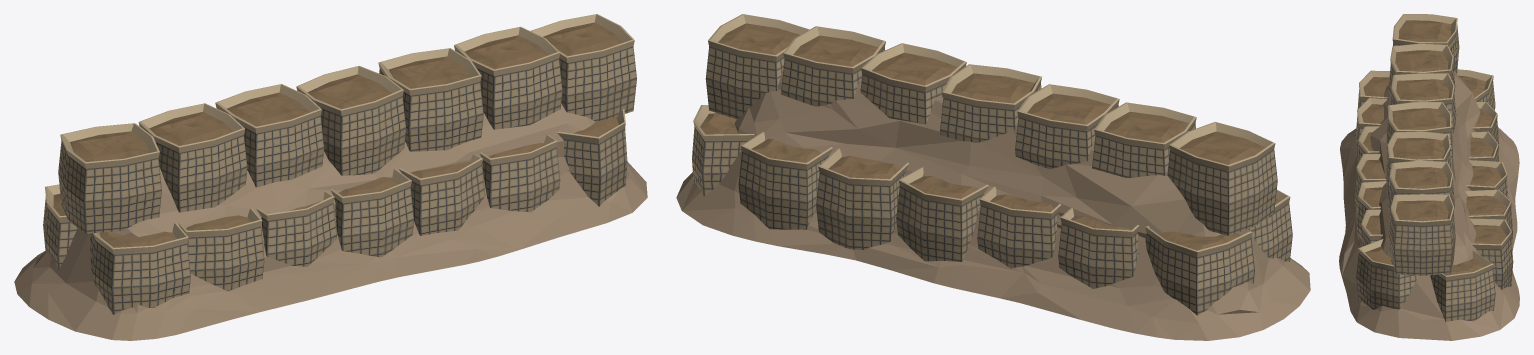
The model's file is SM_Prop_Barrier_Base_Group_04.glb.
3 views of the same model, side by side, from view 1: azimuth 30°, elevation 25°; view 2: azimuth 150°, elevation 25°; view 3: azimuth 270°, elevation 25° (orthographic). The views are drawn at different scales.
Parts seen in each view (by area): view 1: SM_Prop_Barrier_Base_Group_04; view 2: SM_Prop_Barrier_Base_Group_04; view 3: SM_Prop_Barrier_Base_Group_04.
Boxes of the visible parts, box(x1,y1,x2,y2) form: SM_Prop_Barrier_Base_Group_04: box(14, 14, 647, 340); SM_Prop_Barrier_Base_Group_04: box(676, 14, 1310, 340); SM_Prop_Barrier_Base_Group_04: box(1339, 14, 1519, 340).
Bounding box in the file's own units: 8.95 × 2.19 × 3.08.
1 material, 1 textured.
